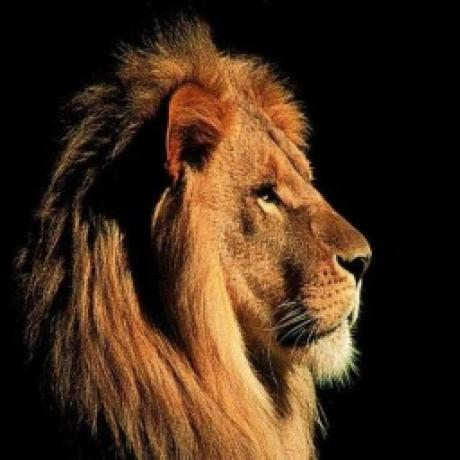Lion: (7, 15, 372, 460)
